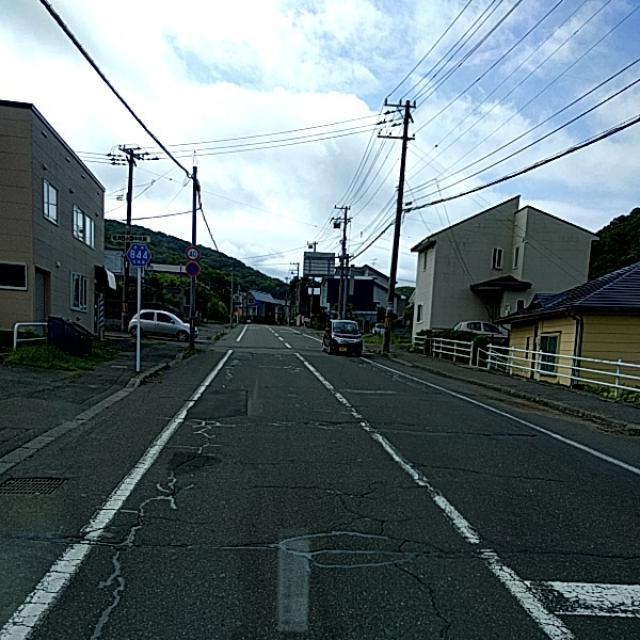pothole: (240, 429, 459, 624), (12, 488, 177, 586)
